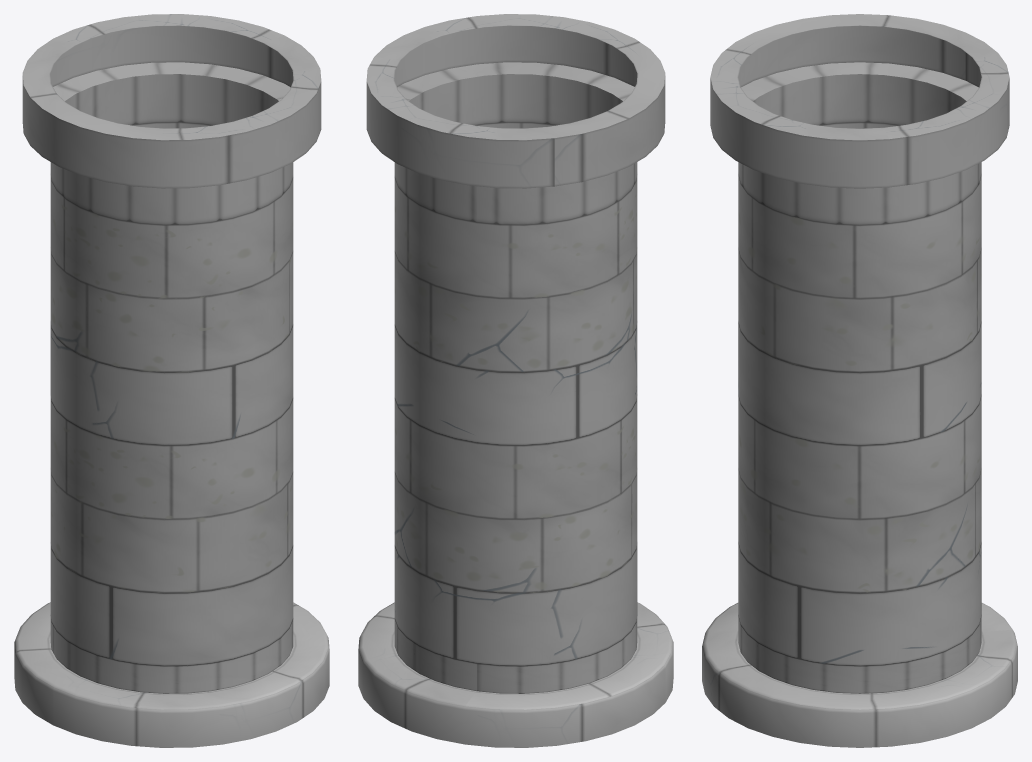
File: Trim_Stone_LargeColonne01.fbx
3 renders of one model, left to right at view 1: azimuth 30°, elevation 25°; view 2: azimuth 150°, elevation 25°; view 3: azimuth 270°, elevation 25°, orthographic.
Parts seen in each view (by area): view 1: Trim_Stone_LargeColonne01; view 2: Trim_Stone_LargeColonne01; view 3: Trim_Stone_LargeColonne01.
Part boxes in pixels (bbox=[...]): Trim_Stone_LargeColonne01: bbox=[14, 14, 329, 747]; Trim_Stone_LargeColonne01: bbox=[358, 14, 673, 747]; Trim_Stone_LargeColonne01: bbox=[702, 14, 1017, 747].
Size of the model in its own units: 519 by 1095 by 519.
